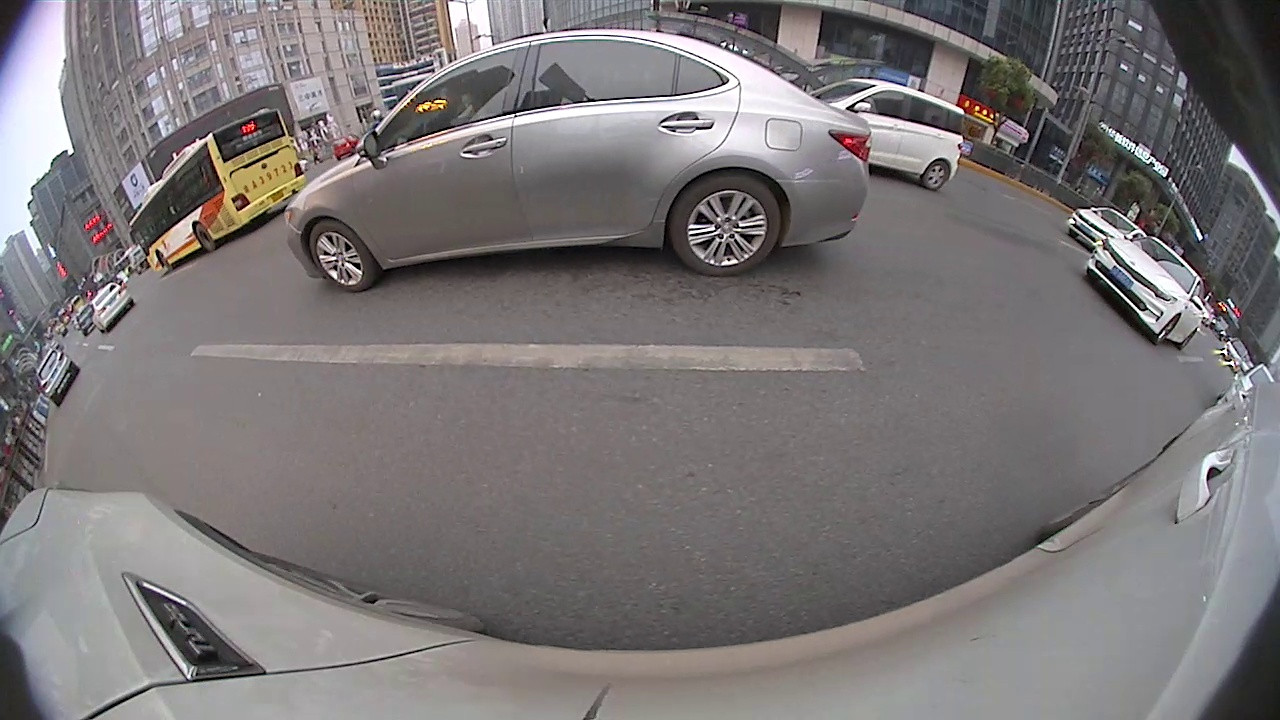bus: (127, 102, 310, 280)
car: (283, 31, 878, 303), (786, 77, 967, 192), (1089, 236, 1209, 347), (1063, 202, 1153, 256), (86, 283, 140, 334), (37, 349, 83, 407)
front: (307, 217, 380, 295), (1150, 311, 1180, 346)
rear: (667, 171, 786, 280), (921, 158, 952, 192), (192, 221, 217, 253)
